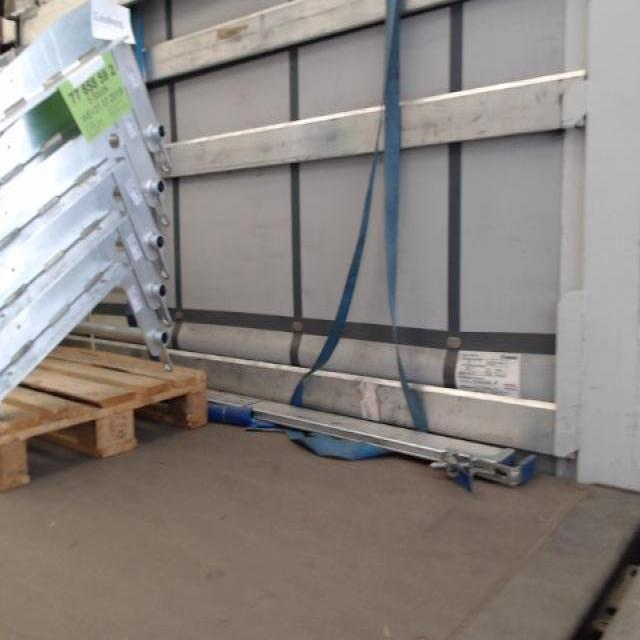pallet: (1, 335, 211, 493)
